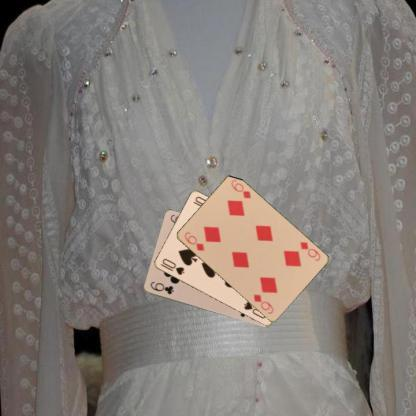10s: (158, 256, 186, 276)
6c: (147, 279, 175, 296)
6d: (297, 240, 322, 262), (181, 230, 205, 252)
